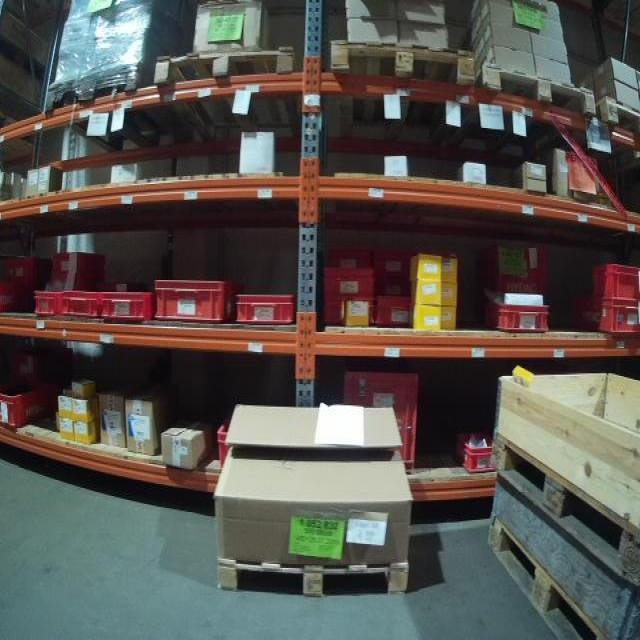pallet: (479, 430, 640, 589), (480, 516, 610, 640), (213, 554, 411, 597), (329, 38, 476, 89), (480, 62, 597, 117), (151, 45, 293, 89), (42, 64, 144, 114), (598, 93, 640, 138)
small_load_carrier: (345, 368, 419, 477), (151, 275, 235, 320), (480, 291, 549, 339), (571, 295, 638, 335), (447, 424, 500, 472), (1, 382, 54, 429), (586, 255, 640, 296), (237, 291, 300, 325), (45, 254, 109, 285), (101, 287, 156, 323), (323, 269, 376, 299), (323, 299, 372, 328), (3, 253, 48, 284), (60, 286, 102, 318), (213, 420, 238, 465), (374, 299, 412, 327), (33, 288, 63, 318), (2, 283, 24, 317)
